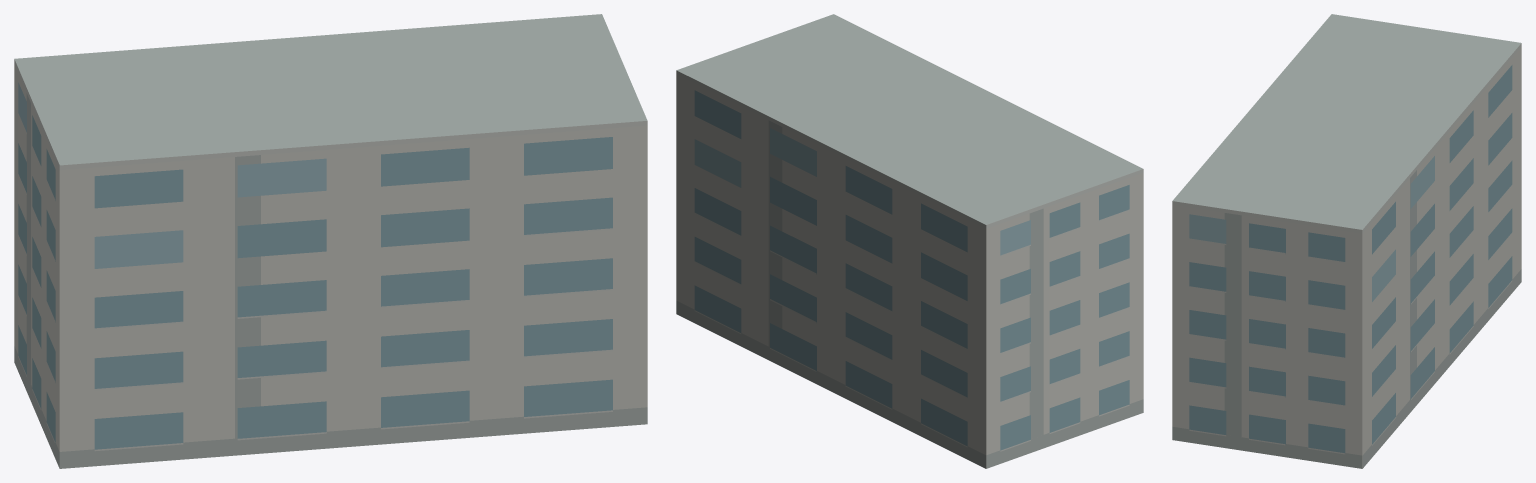
The model's file is residential-eb47910b-e363-4031-91c6-8c683f42402a.glb.
3 views of the same model, side by side, from view 1: azimuth 30°, elevation 25°; view 2: azimuth 150°, elevation 25°; view 3: azimuth 270°, elevation 25° (orthographic). The views are drawn at different scales.
Parts seen in each view (by area): view 1: residential-eb47910b-e363-4031-91c6-8c683f42402a.tmp; view 2: residential-eb47910b-e363-4031-91c6-8c683f42402a.tmp; view 3: residential-eb47910b-e363-4031-91c6-8c683f42402a.tmp.
Part boxes in pixels (bbox=[...]): residential-eb47910b-e363-4031-91c6-8c683f42402a.tmp: bbox=[14, 14, 647, 468]; residential-eb47910b-e363-4031-91c6-8c683f42402a.tmp: bbox=[676, 14, 1143, 468]; residential-eb47910b-e363-4031-91c6-8c683f42402a.tmp: bbox=[1172, 14, 1521, 468].
Bounding box in the file's own units: 29.56 × 15.25 × 20.22.
